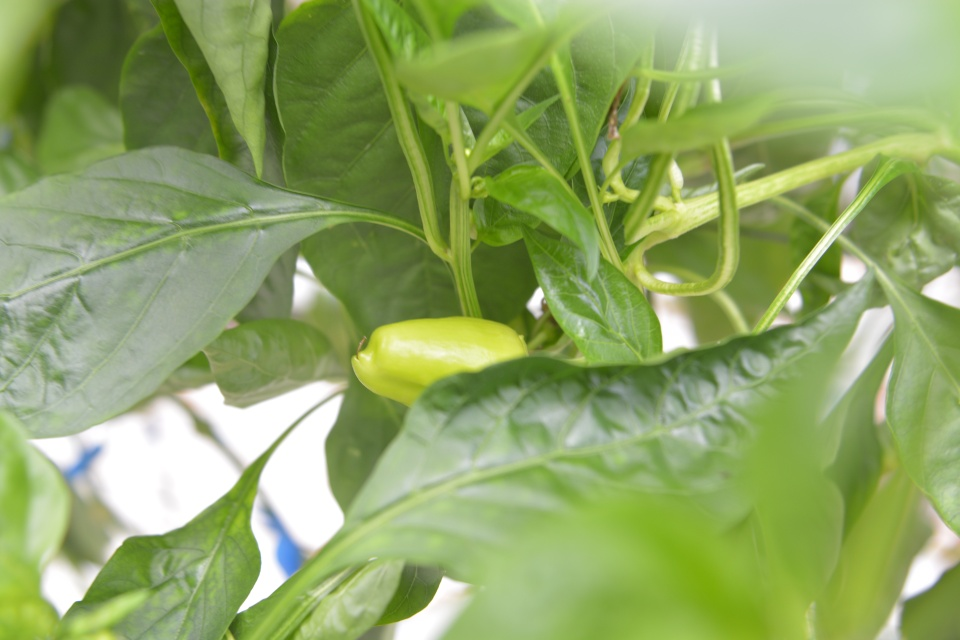immature: (347, 311, 532, 413)
